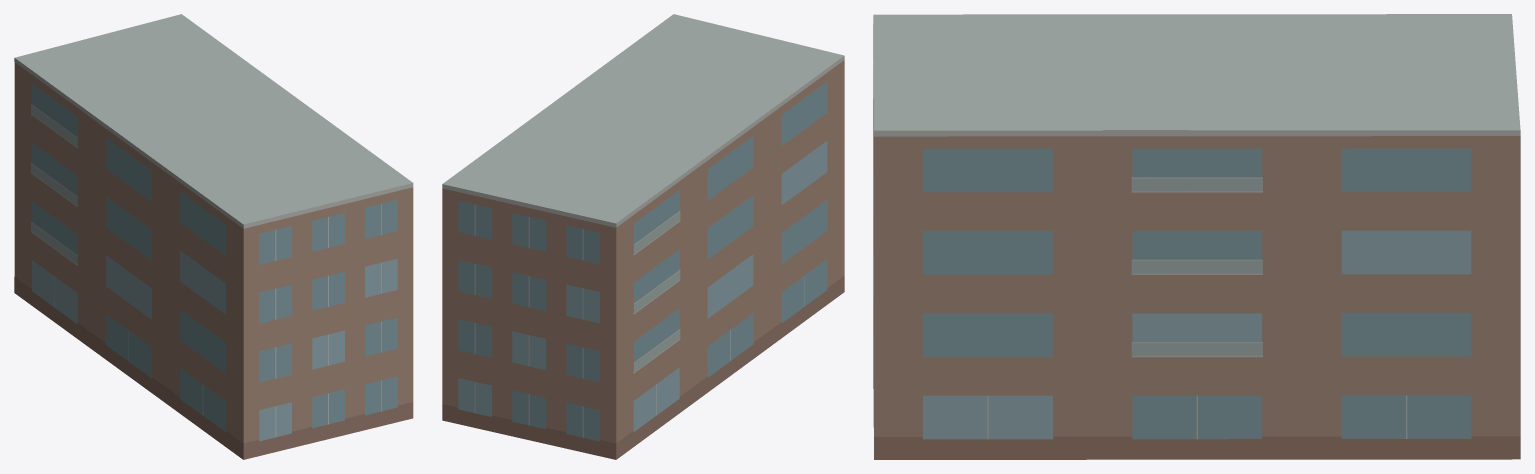
Rendered from survey-upis-32706669.glb.
3 views of the same model, side by side, from view 1: azimuth 30°, elevation 25°; view 2: azimuth 150°, elevation 25°; view 3: azimuth 270°, elevation 25° (orthographic). The views are drawn at different scales.
Visible parts, largest first — view 1: survey-upis-32706669.tmp; view 2: survey-upis-32706669.tmp; view 3: survey-upis-32706669.tmp.
Boxes of the visible parts, x1,y1,x2,y2 form: survey-upis-32706669.tmp: [14, 14, 413, 459]; survey-upis-32706669.tmp: [442, 14, 844, 459]; survey-upis-32706669.tmp: [873, 14, 1520, 459].
Size of the model in its own units: 10.39 by 13.6 by 24.24.
